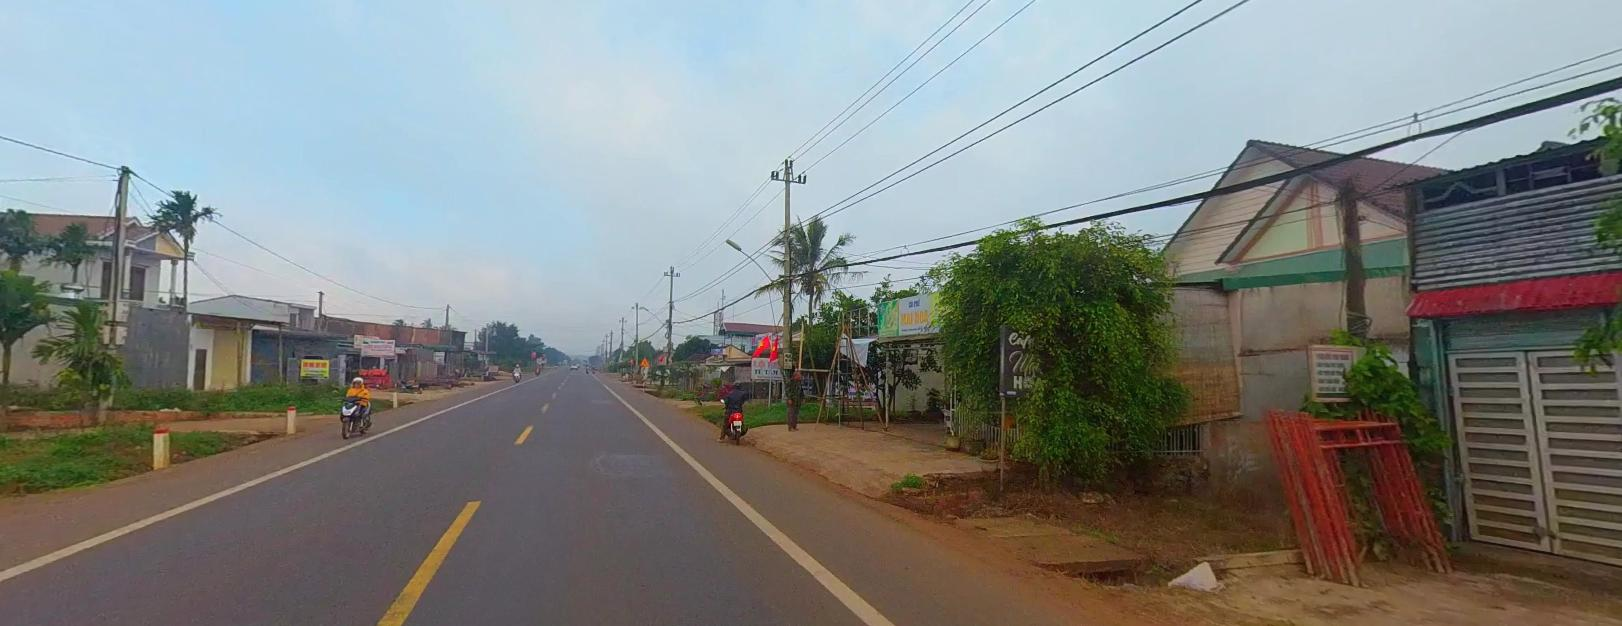Nguy hiem: (638, 355, 650, 365)
